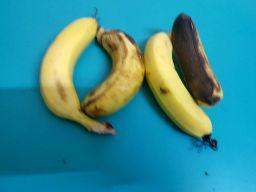banana: (38, 6, 119, 136), (143, 30, 220, 152), (77, 24, 147, 118), (169, 11, 225, 108)
